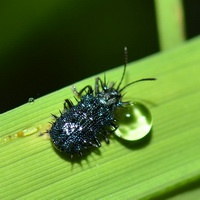insect: (47, 47, 155, 157), (0, 86, 76, 149), (58, 99, 113, 152), (120, 55, 155, 87)
